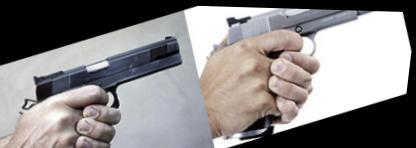pistol: (181, 4, 415, 142), (5, 19, 214, 145)
